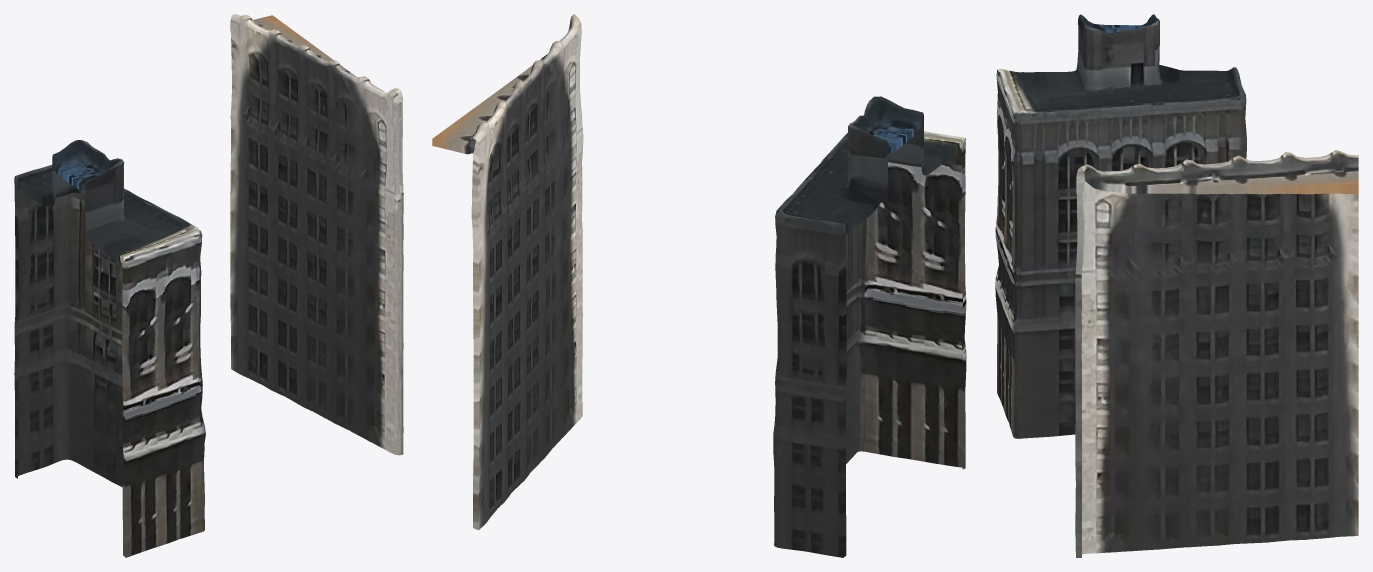
File: z20-167764-405237-h1-yup-uvflip-v3-world.glb
3 renders of one model, left to right at view 1: azimuth 30°, elevation 25°; view 2: azimuth 150°, elevation 25°; view 3: azimuth 270°, elevation 25°, orthographic. The views are drawn at different scales.
Size of the model in its own units: 30.16 by 33.28 by 27.96.
Materials: 1 (1 with a texture image).
